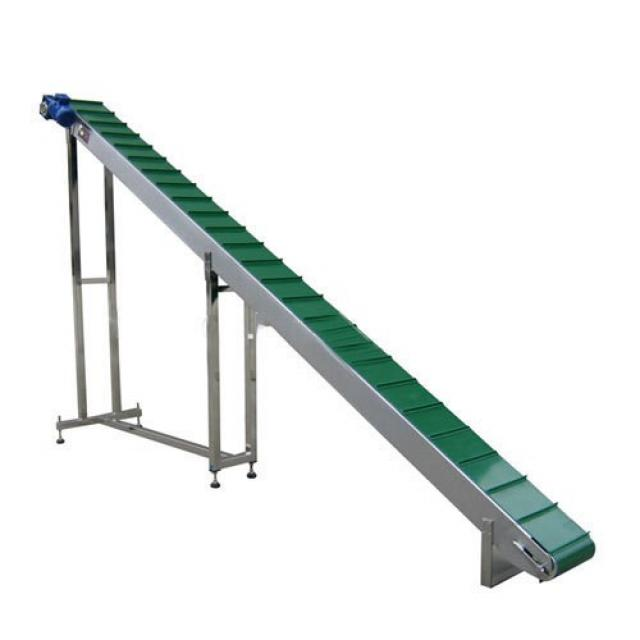Convoyeur: (37, 80, 600, 592)
